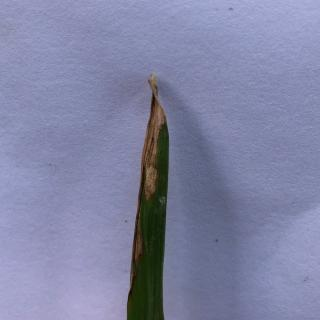Hawar-Daun: (127, 1, 181, 320)
